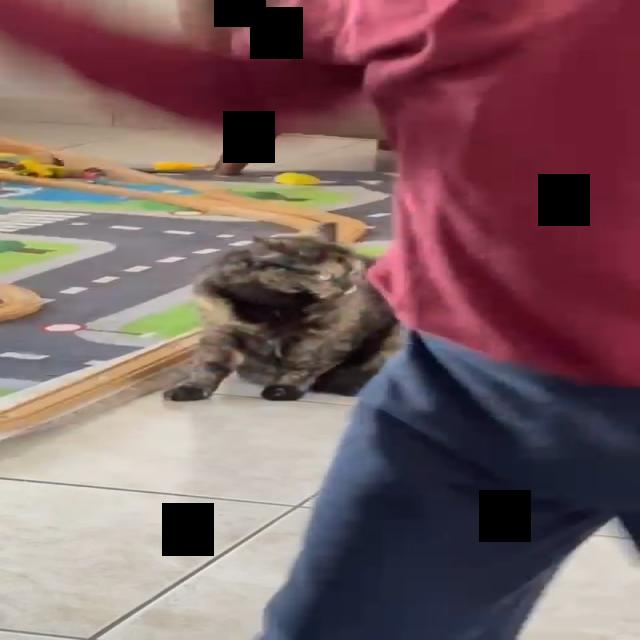authorized: (162, 228, 410, 402)
